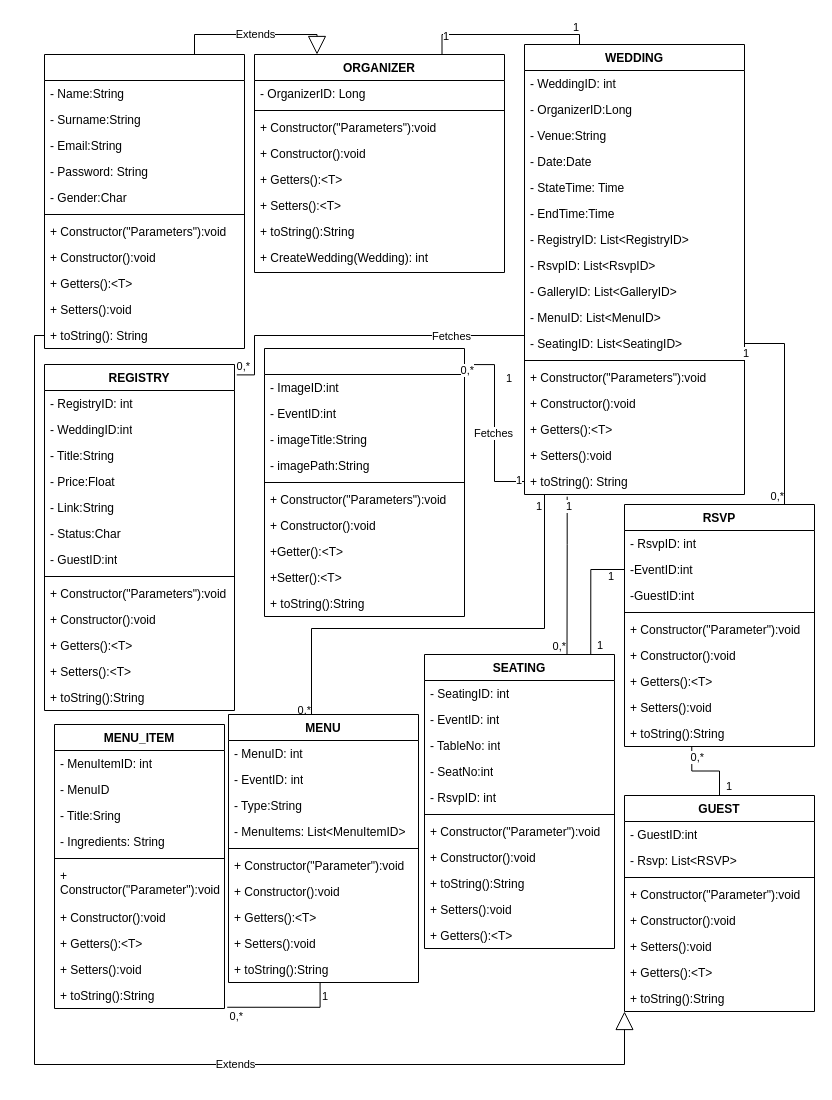
This 832x1100 diagram has some shape labels left out. The box of each missing label's shape, as (x1, y1, x2, y2) in pixels:
GALLERY: (264, 348, 464, 616)
PERSON: (44, 54, 244, 348)
